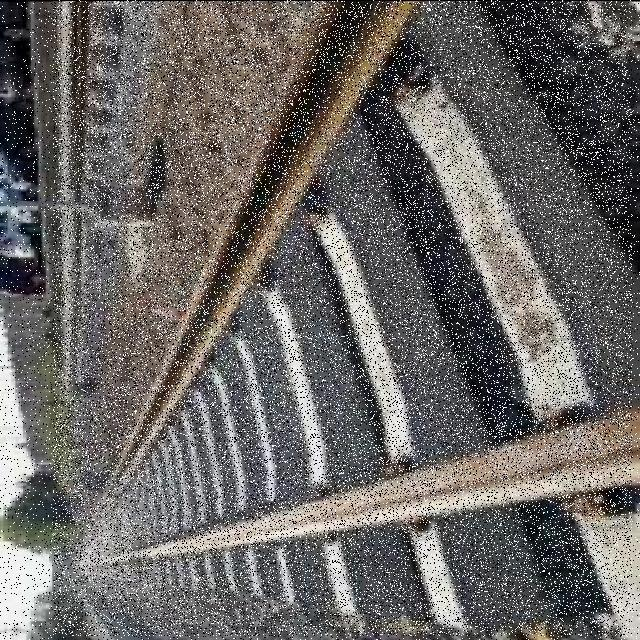rail: (53, 1, 632, 636)
